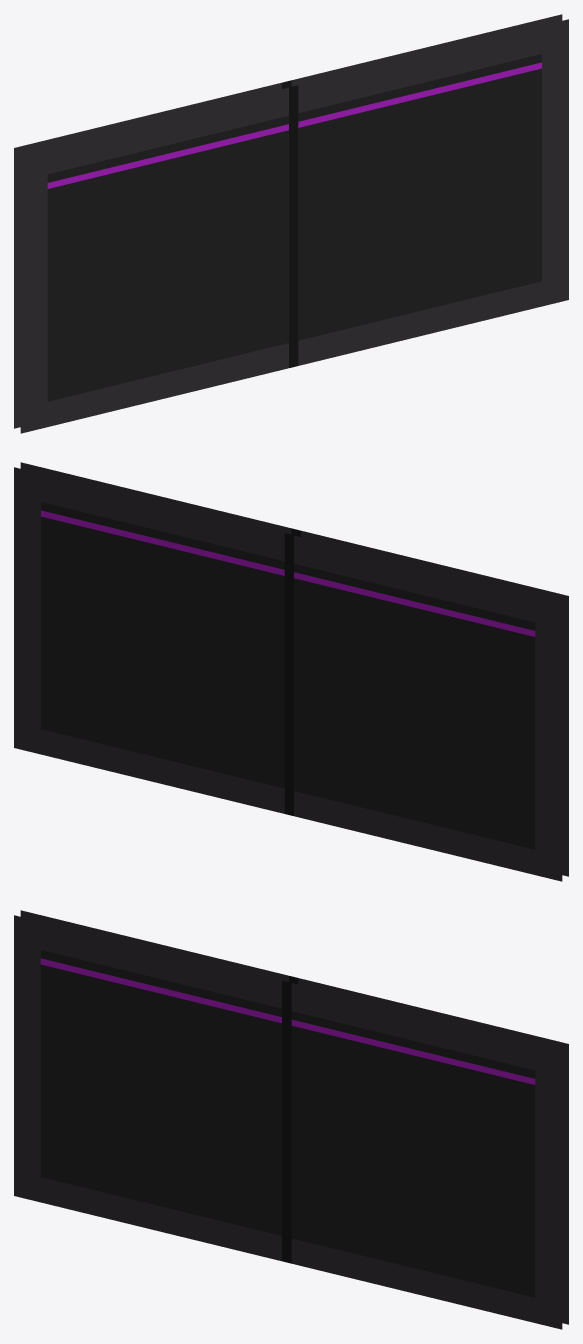
The model's file is Door_Double.fbx.
The picture shows the model from 3 angles, top to bottom: view 1: azimuth 30°, elevation 25°; view 2: azimuth 150°, elevation 25°; view 3: azimuth 330°, elevation 25°; orthographic projection.
Parts seen in each view (by area): view 1: Door_Double; view 2: Door_Double; view 3: Door_Double.
Boxes of the visible parts, x1,y1,x2,y2 form: Door_Double: (14,14,568,433); Door_Double: (14,462,568,881); Door_Double: (14,910,568,1329).
Bounding box in the file's own units: 940 × 460 × 20.
